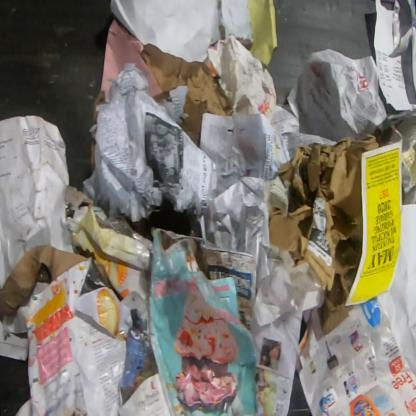cardboard: (268, 128, 384, 336), (148, 225, 259, 415), (0, 244, 95, 415), (63, 183, 150, 342), (140, 43, 235, 148), (92, 90, 106, 125), (89, 138, 96, 176)
soft_plastic: (93, 211, 156, 256)
